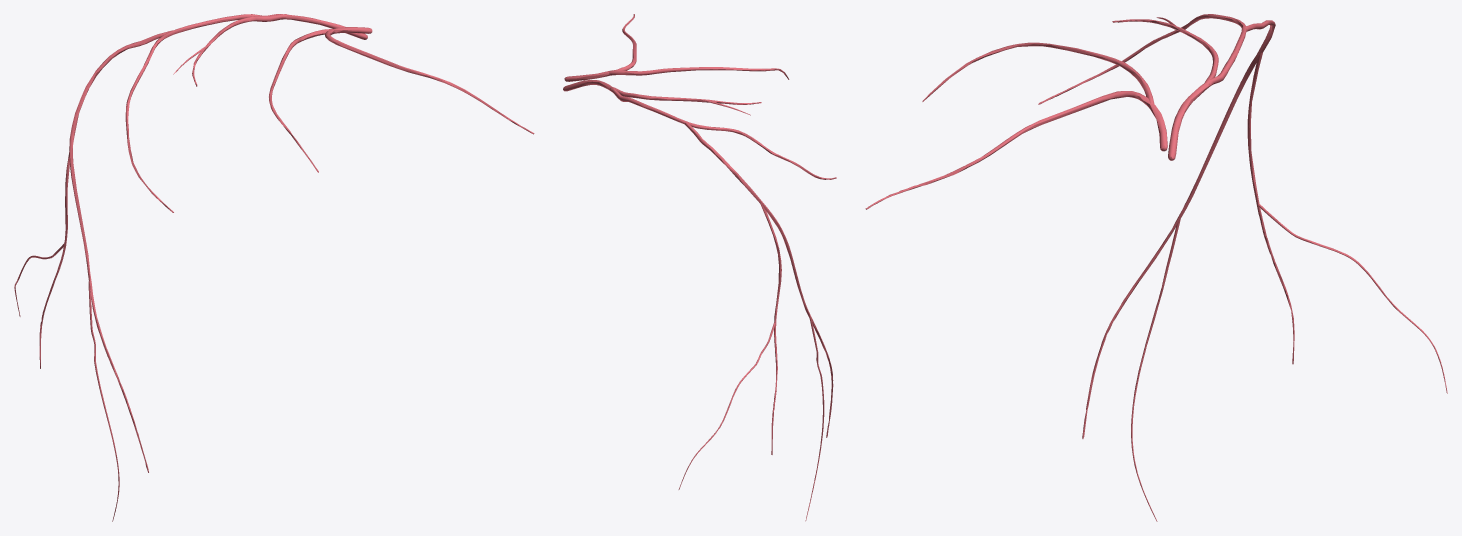
File: fma78121_cx243.glb
3 renders of one model, left to right at view 1: azimuth 30°, elevation 25°; view 2: azimuth 150°, elevation 25°; view 3: azimuth 270°, elevation 25°, orthographic. The views are drawn at different scales.
Visible parts, largest first — view 1: FMA78121_CX243; view 2: FMA78121_CX243; view 3: FMA78121_CX243.
Part boxes in pixels (<box>): FMA78121_CX243: <box>14,14,534,521</box>; FMA78121_CX243: <box>563,14,836,521</box>; FMA78121_CX243: <box>865,14,1447,521</box>.
Size of the model in its own units: 0.1114 by 0.1474 by 0.1385.
